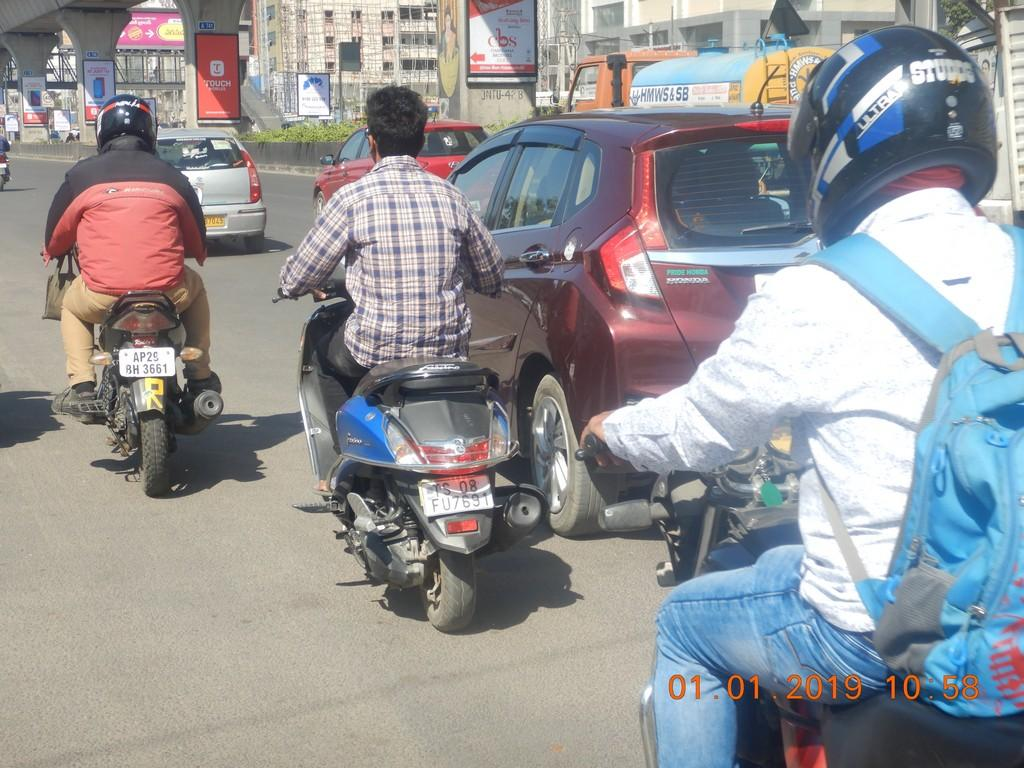plate: (422, 479, 494, 513), (119, 347, 174, 380)
